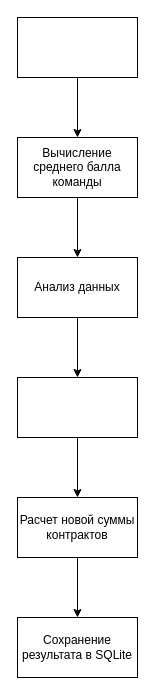
Image size: 155x695. Some labels were removed from this diagram. The shapes that lost their labels are listed below. From the top down, each one's centre as x and y in pixels, then its label:
At point 77,47: "Импорт данных".
At point 77,407: "Поиск альтернативных игроков".
